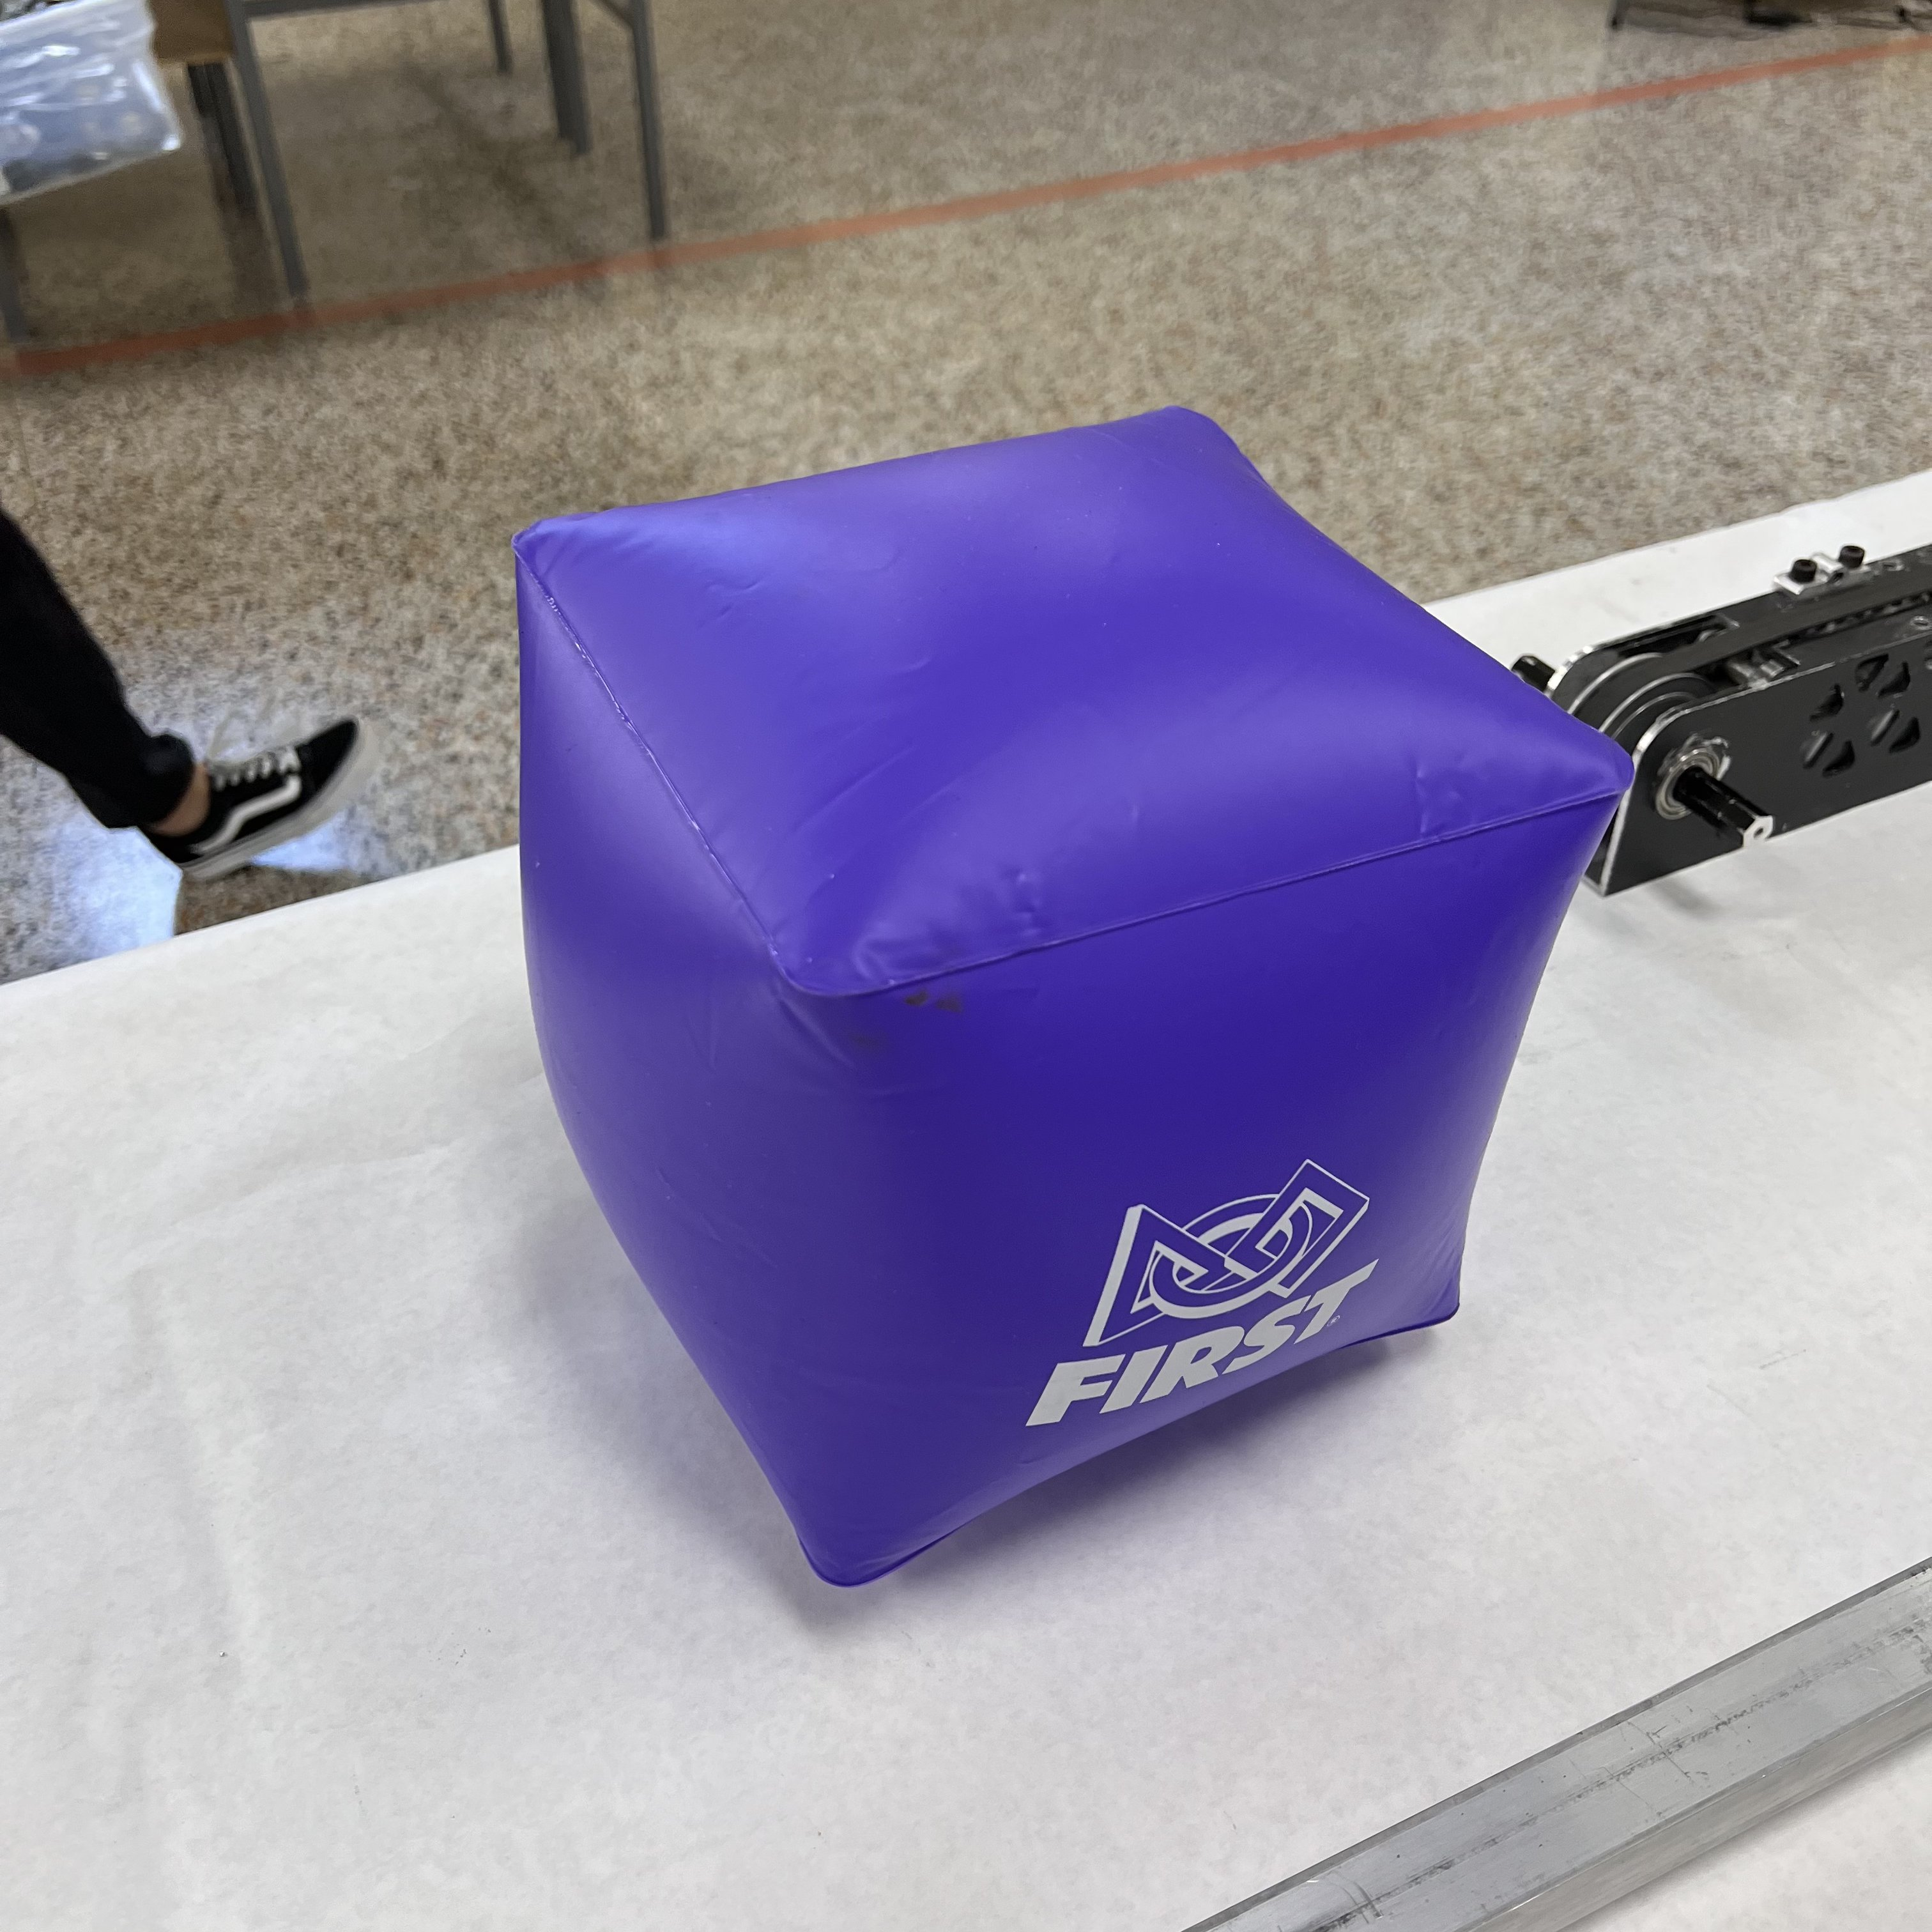cube: (513, 405, 1633, 1585)
